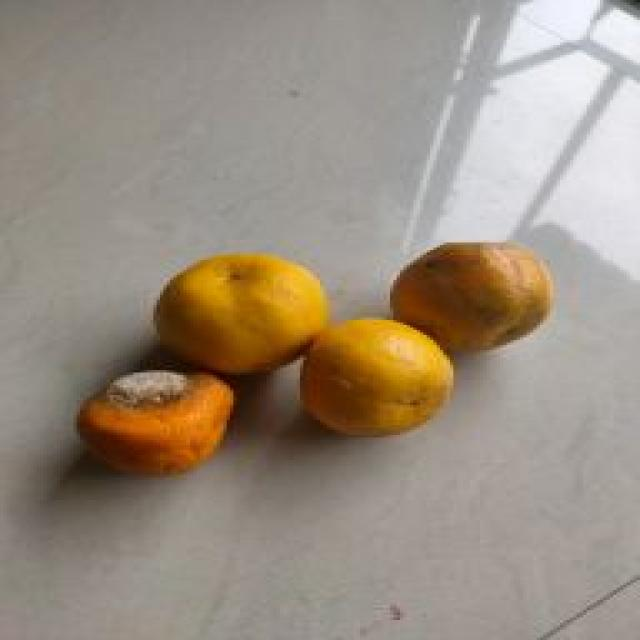Organik: (116, 226, 334, 367), (288, 302, 486, 449), (63, 353, 256, 492), (392, 221, 576, 350)
